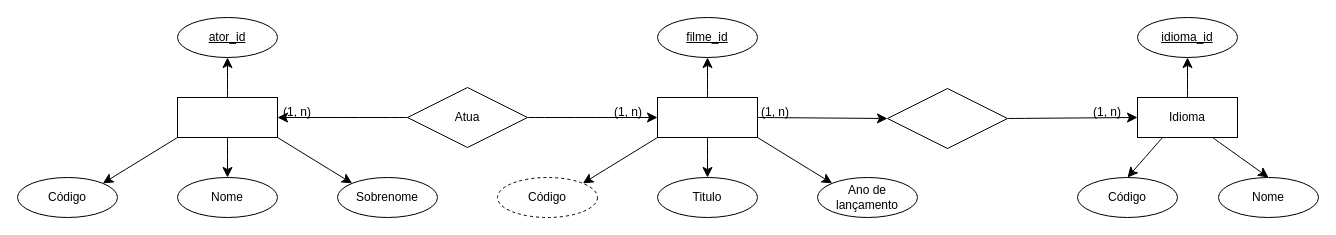
This 1336x235 diagram has some shape labels left out. The shapes that lost their labels are listed below. From the top down, each one's centre as x and y in pixels, then its label:
At point (227, 117): "Ator".
At point (707, 117): "Filme".
At point (947, 118): "Traduz".
